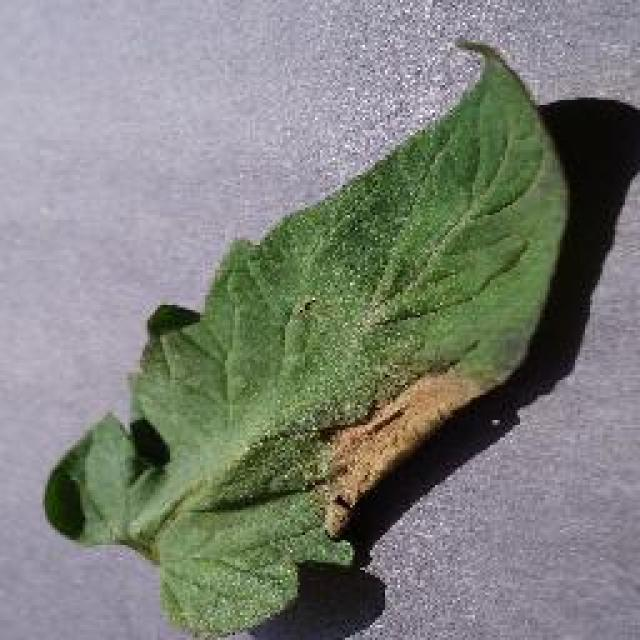Tomato late blight leaf: (37, 32, 565, 640)
